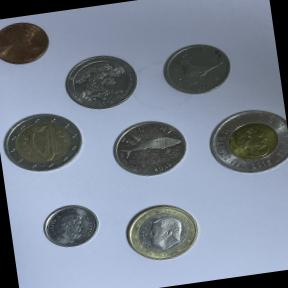1 Euro-B: (120, 195, 204, 268)
2 Euro-B: (0, 107, 87, 182)
Canada-10cent-B: (37, 194, 105, 254)
Canada-2Dollar-B: (201, 101, 288, 183)
Croatia-2Kune-B: (106, 114, 194, 185)
US-1cent-B: (0, 15, 54, 70)
US-25cent-B: (58, 47, 146, 116)
